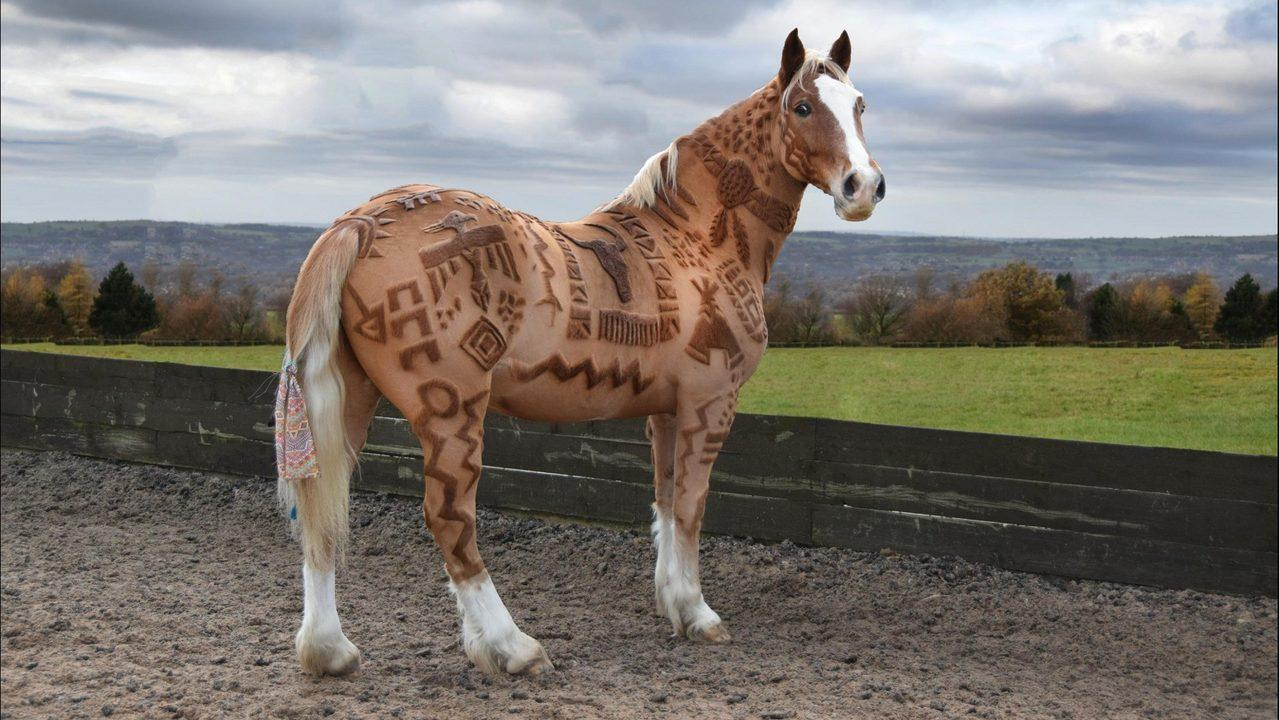horse: (262, 17, 895, 686)
